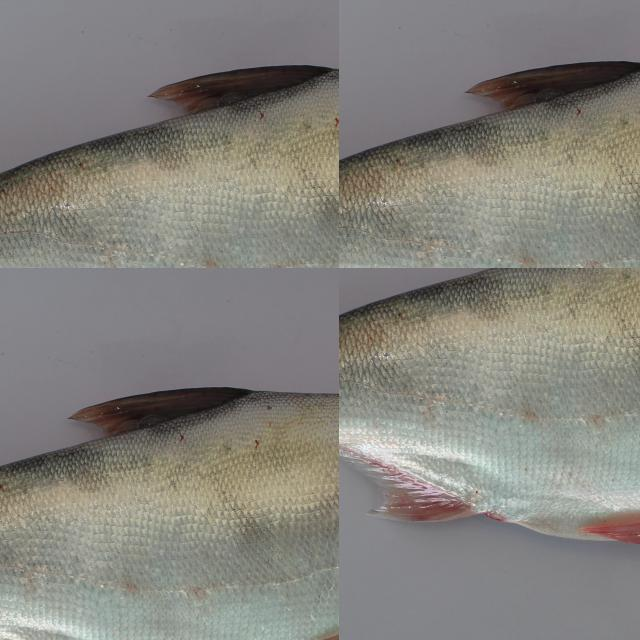fish: (339, 0, 640, 268), (339, 268, 640, 529)
